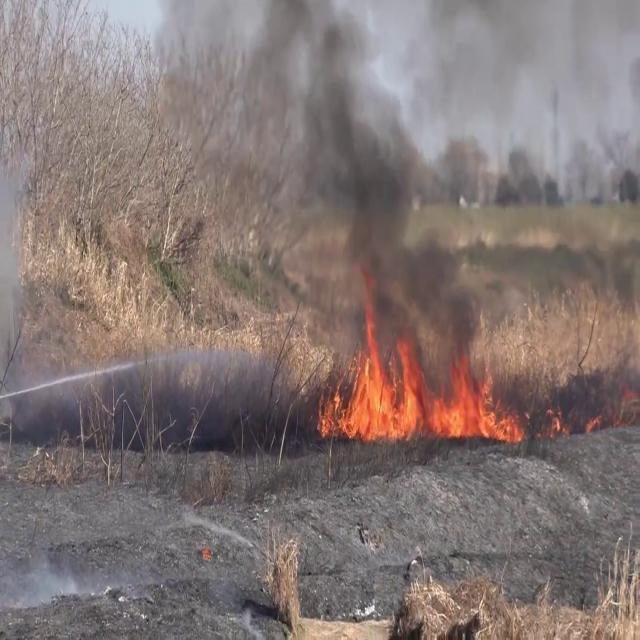Fire: (317, 302, 523, 448)
Smoke: (269, 0, 639, 346)
